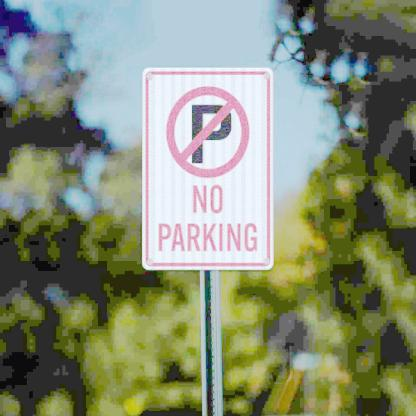No parking: (162, 84, 252, 174)
